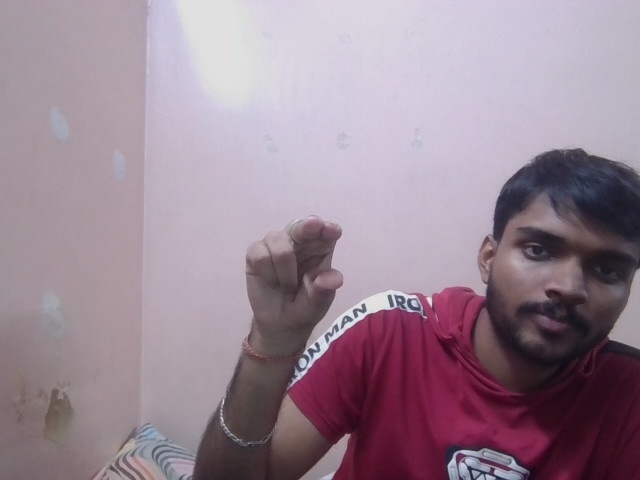No: (236, 205, 349, 330)
